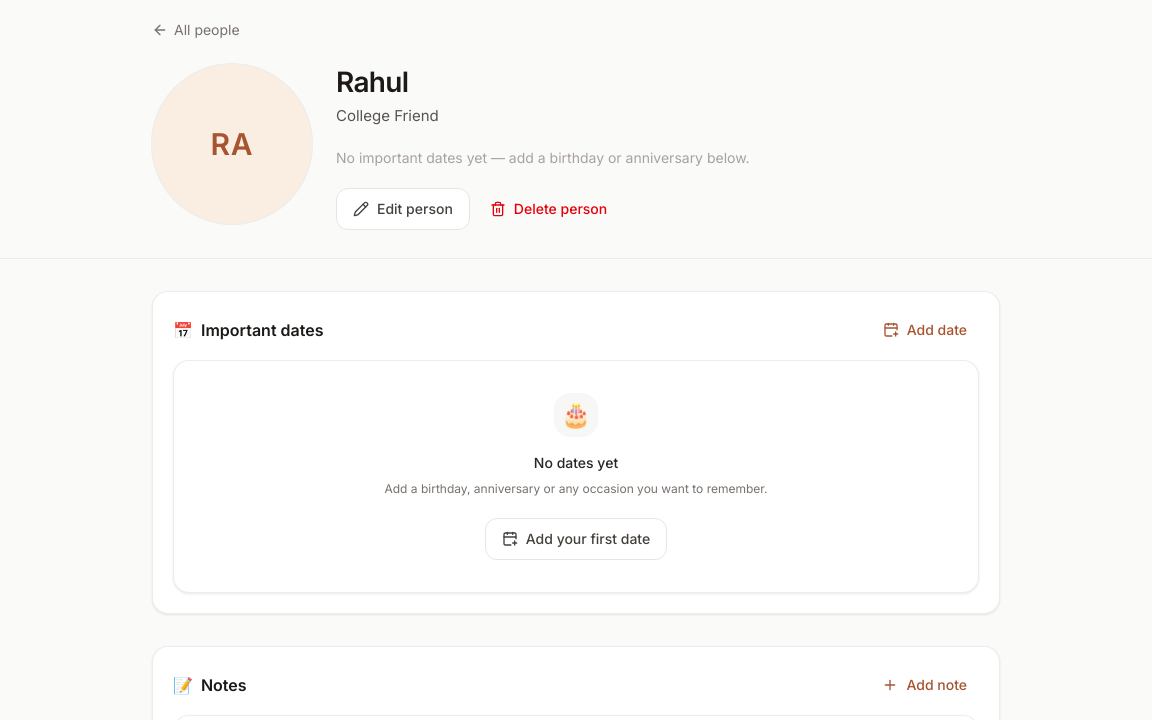
PersonProfilePage › edits the person from the profile and updates the same record
expect the heading "Rahul" is shown: met, box [336,65,408,99]
Click the button "Edit person" at coordinates (403, 209), box [336,188,470,230]
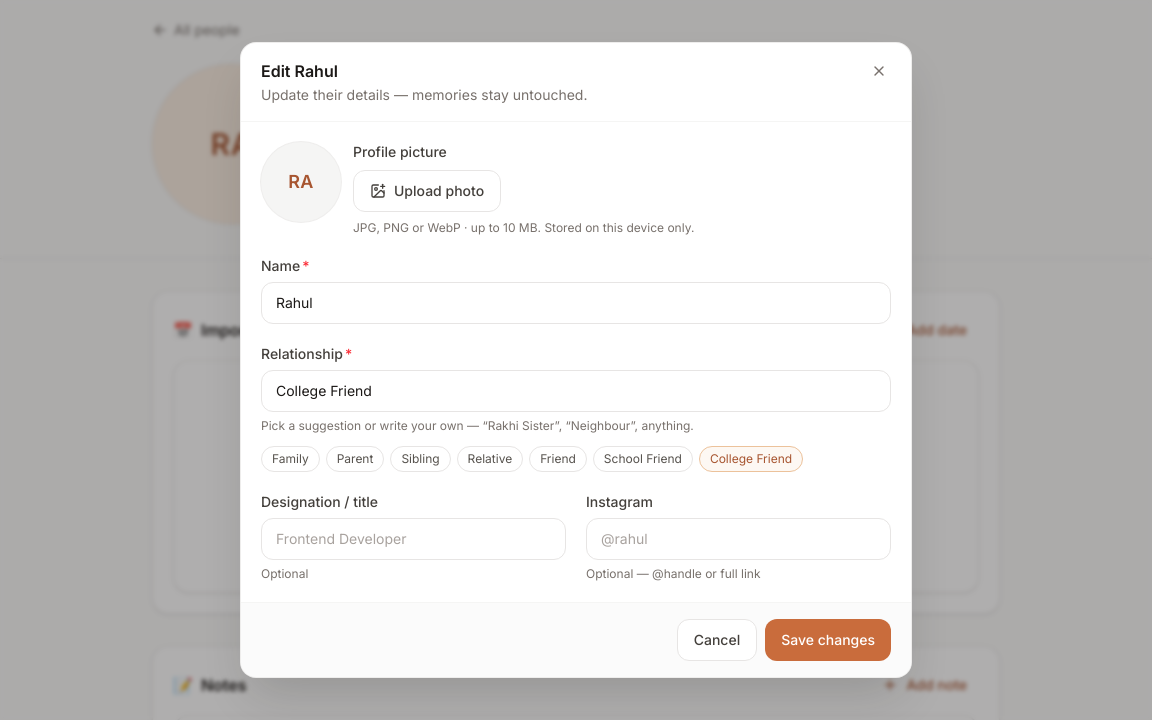
Replace the text in the field labelled "Name*" with "Rahul Sharma" at coordinates (576, 303), box [261,282,891,324]
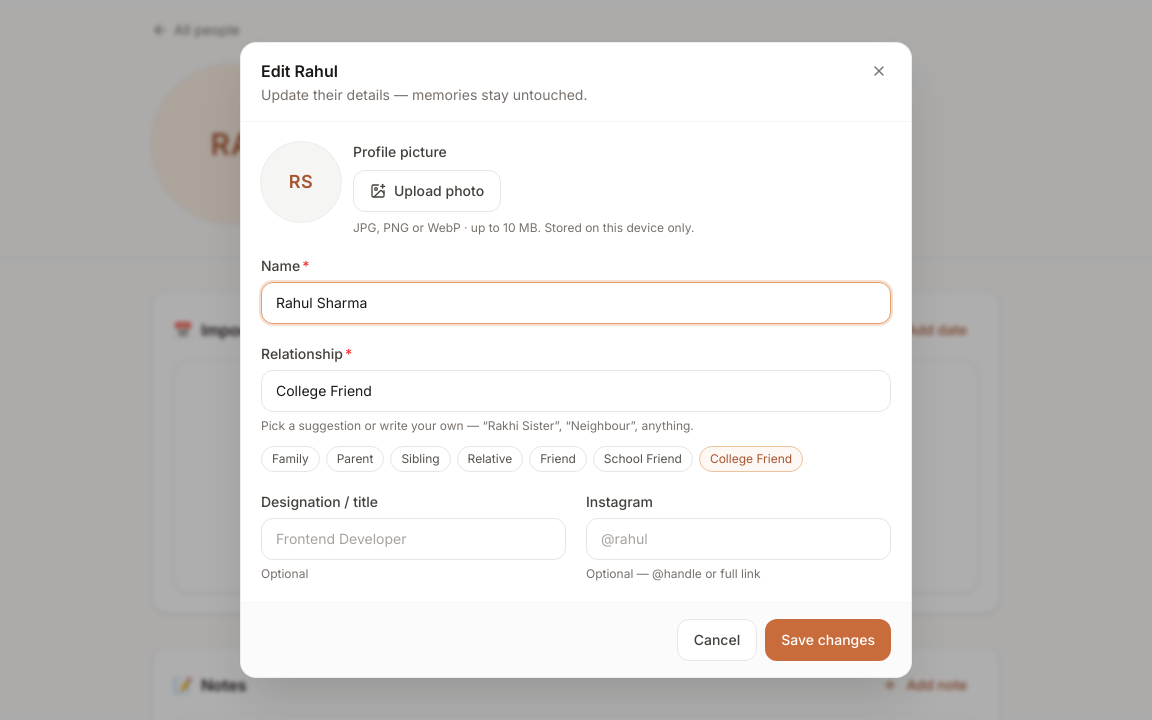
Click the button "Save changes" at coordinates (828, 640), box [765,619,891,661]
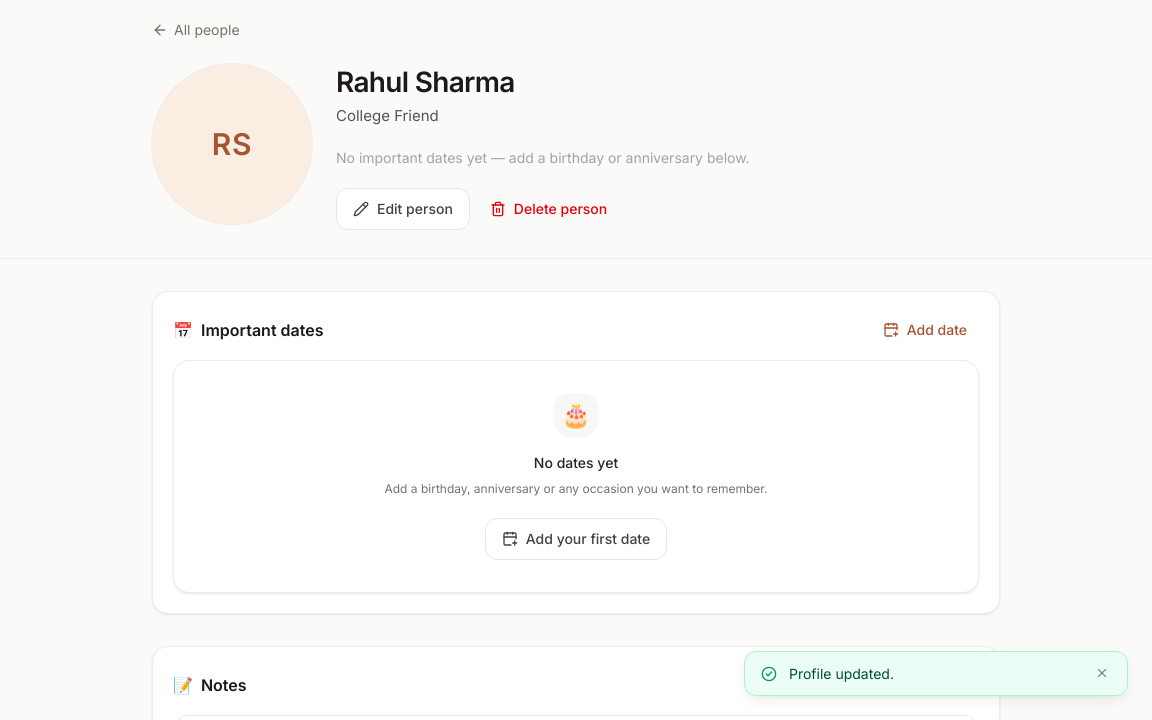
expect the heading "Rahul Sharma" is shown: met, box [336,65,515,99]
